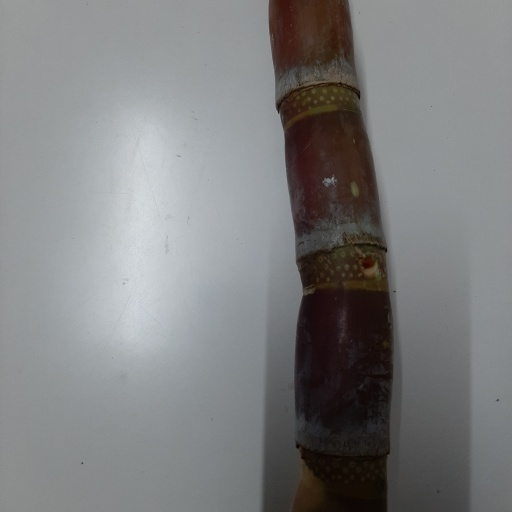Damage_Bud: (356, 252, 379, 277)
